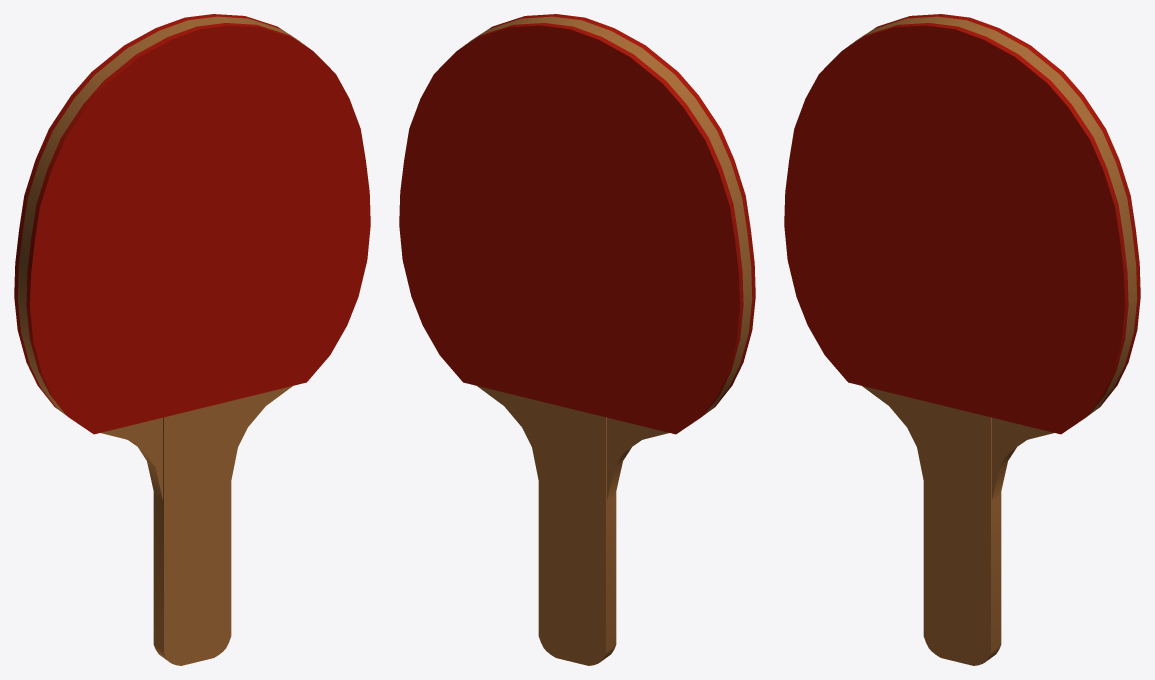
File: TableTennisBat.fbx
The picture shows the model from 3 angles, left to right: view 1: azimuth 30°, elevation 25°; view 2: azimuth 150°, elevation 25°; view 3: azimuth 330°, elevation 25°; orthographic projection.
Parts seen in each view (by area): view 1: TableTennisBat; view 2: TableTennisBat; view 3: TableTennisBat.
Part boxes in pixels (x1,y1,x2,y2): TableTennisBat: [14, 14, 370, 665]; TableTennisBat: [399, 14, 755, 665]; TableTennisBat: [784, 14, 1140, 665].
Size of the model in its own units: 13.49 by 24 by 1.08.
